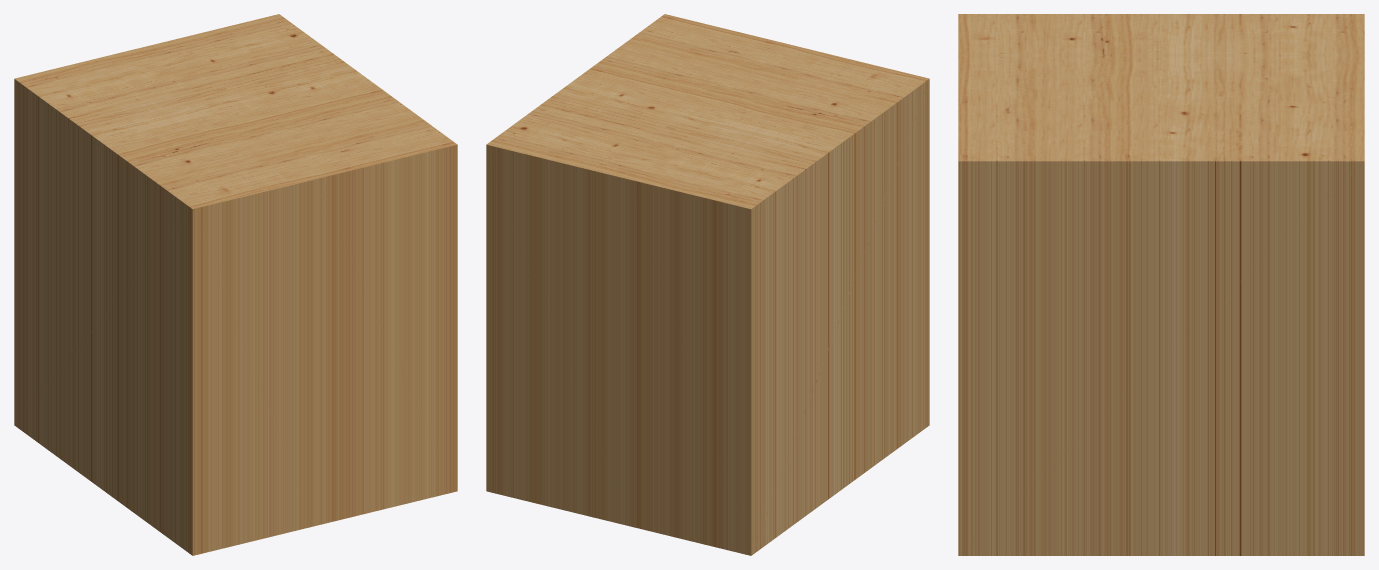
Rendered from poot_links_voor.obj.
The picture shows the model from 3 angles, left to right: view 1: azimuth 30°, elevation 25°; view 2: azimuth 150°, elevation 25°; view 3: azimuth 270°, elevation 25°; orthographic projection. The views are drawn at different scales.
Parts seen in each view (by area): view 1: Poot_rechts_achter; view 2: Poot_rechts_achter; view 3: Poot_rechts_achter.
Boxes of the visible parts, x1,y1,x2,y2 form: Poot_rechts_achter: [14, 14, 457, 555]; Poot_rechts_achter: [486, 14, 929, 555]; Poot_rechts_achter: [958, 14, 1364, 555].
Size of the model in its own units: 0.4724 by 0.5906 by 0.5512.
1 material, 1 textured.
